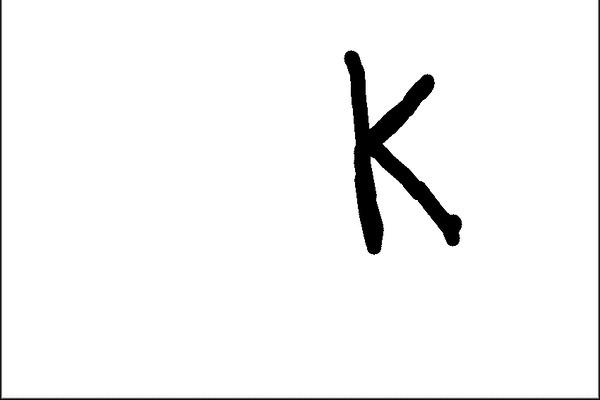K: (334, 42, 472, 263)
